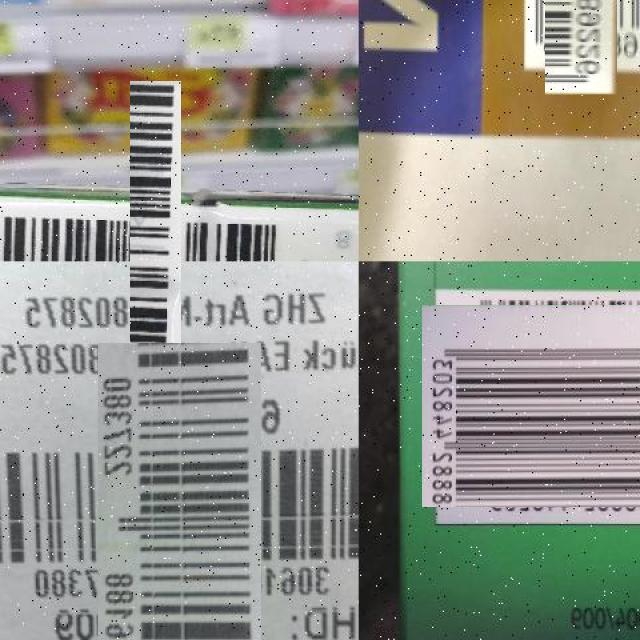Barcode: (50, 391, 310, 640), (430, 296, 640, 515), (65, 145, 245, 326), (534, 0, 629, 84)
